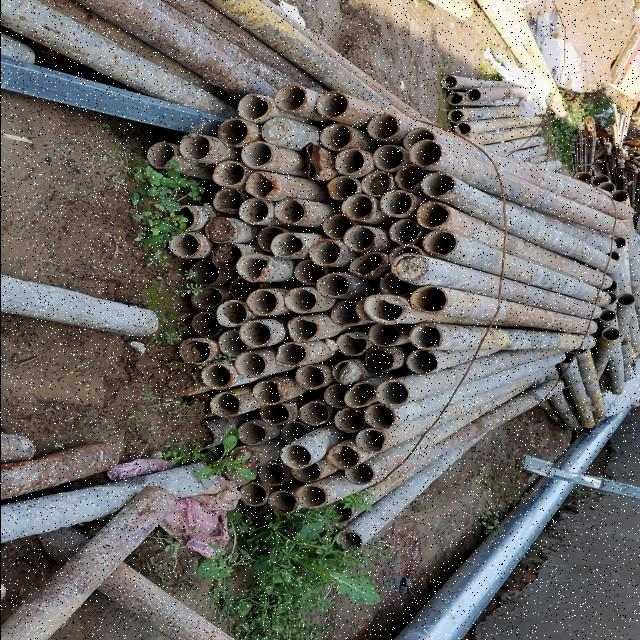pipe: (359, 292, 410, 326), (404, 284, 450, 315), (417, 228, 461, 260), (389, 252, 431, 284), (416, 170, 457, 202), (272, 80, 308, 114), (272, 193, 308, 227), (238, 138, 276, 170), (307, 236, 345, 268), (331, 147, 369, 179), (314, 270, 354, 300), (337, 194, 377, 224), (346, 251, 386, 281), (243, 288, 282, 318), (384, 218, 424, 247), (176, 132, 212, 164), (198, 360, 234, 392), (214, 298, 250, 330), (258, 116, 294, 148), (374, 378, 410, 410), (186, 308, 223, 339), (233, 253, 270, 284), (317, 121, 354, 152), (379, 189, 416, 220), (391, 163, 428, 194), (234, 94, 272, 124), (235, 318, 273, 348), (339, 223, 377, 253), (414, 200, 452, 230), (363, 112, 401, 142), (359, 348, 399, 376), (375, 270, 415, 298), (372, 142, 407, 174), (187, 284, 226, 312), (409, 138, 443, 170), (214, 118, 250, 148), (175, 336, 211, 366), (244, 170, 280, 200), (313, 90, 349, 120), (210, 160, 248, 188), (292, 258, 330, 286), (328, 359, 366, 387), (406, 322, 444, 350), (324, 174, 362, 202), (318, 213, 356, 241), (216, 328, 250, 359), (236, 196, 271, 226), (325, 443, 361, 472), (274, 341, 310, 370), (332, 332, 372, 358), (400, 350, 440, 376), (366, 322, 406, 348), (208, 390, 242, 420), (234, 350, 268, 380), (202, 215, 236, 245), (166, 232, 202, 260), (353, 428, 389, 456), (296, 400, 332, 428), (282, 286, 318, 314), (292, 364, 328, 392), (341, 381, 377, 409), (328, 300, 364, 328), (358, 170, 394, 198), (286, 316, 324, 342), (292, 484, 328, 511), (144, 140, 176, 170), (254, 224, 286, 254), (264, 488, 298, 516), (278, 442, 312, 470), (342, 460, 376, 488), (210, 242, 244, 270), (227, 274, 261, 302), (270, 232, 304, 260), (183, 260, 219, 286), (250, 380, 284, 407), (212, 188, 246, 215), (256, 402, 292, 427), (402, 126, 438, 151), (332, 406, 364, 434), (235, 420, 268, 447), (320, 499, 354, 525), (300, 140, 322, 180), (238, 481, 268, 509), (165, 203, 194, 231), (322, 383, 350, 411), (278, 420, 308, 446), (332, 530, 364, 554), (386, 245, 424, 264), (257, 463, 287, 487), (288, 462, 320, 484), (600, 327, 622, 342), (446, 108, 465, 124), (445, 91, 465, 106), (439, 75, 458, 90), (452, 122, 472, 136), (616, 292, 636, 306), (590, 174, 610, 188), (464, 88, 482, 102), (598, 308, 616, 322), (609, 190, 629, 202), (574, 171, 593, 183), (559, 350, 575, 364), (596, 182, 616, 193), (556, 167, 574, 178), (603, 291, 617, 305), (603, 279, 618, 292), (612, 236, 626, 249), (606, 250, 620, 262), (572, 346, 590, 354)
